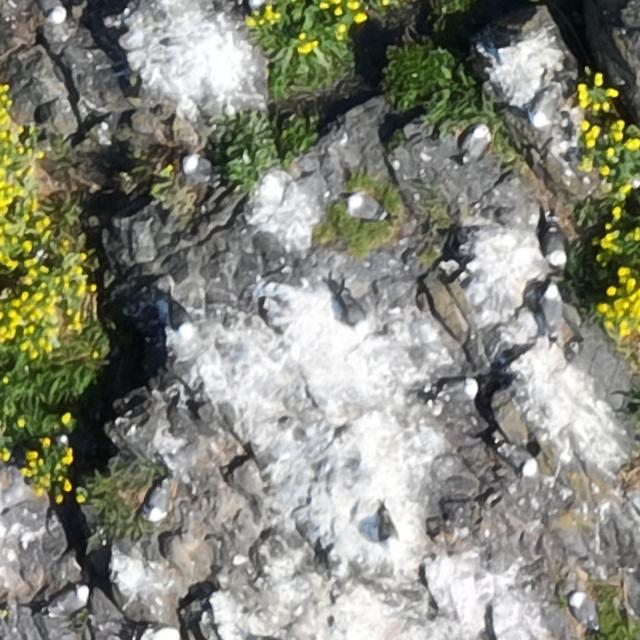umineko: (528, 78, 568, 128), (370, 506, 401, 556), (49, 587, 88, 612), (178, 152, 222, 174), (502, 445, 536, 470), (462, 127, 488, 159), (544, 226, 565, 265), (349, 195, 383, 219), (542, 288, 560, 331), (572, 596, 596, 628), (438, 379, 474, 400), (148, 487, 170, 521), (40, 5, 68, 30), (170, 300, 190, 334)
